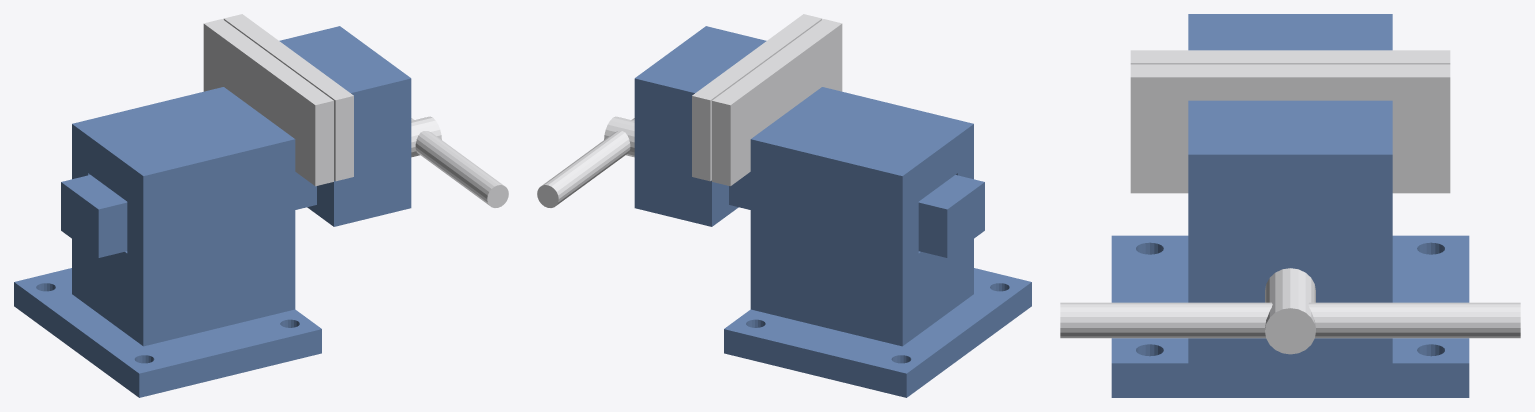
File: vise-bench.glb
The picture shows the model from 3 angles, left to right: view 1: azimuth 30°, elevation 25°; view 2: azimuth 150°, elevation 25°; view 3: azimuth 270°, elevation 25°; orthographic projection. The views are drawn at different scales.
Visible parts, largest first — view 1: body, jaw; view 2: body, jaw; view 3: jaw, body.
Part boxes in pixels (box(x1,y1,x2,y2)): body: box(14, 19, 333, 397); jaw: box(61, 14, 508, 257); body: box(712, 19, 1031, 397); jaw: box(537, 14, 984, 257); jaw: box(1060, 64, 1520, 354); body: box(1111, 14, 1469, 397).
Size of what is drawn, in the model's own units: 0.23 by 0.15 by 0.18.
